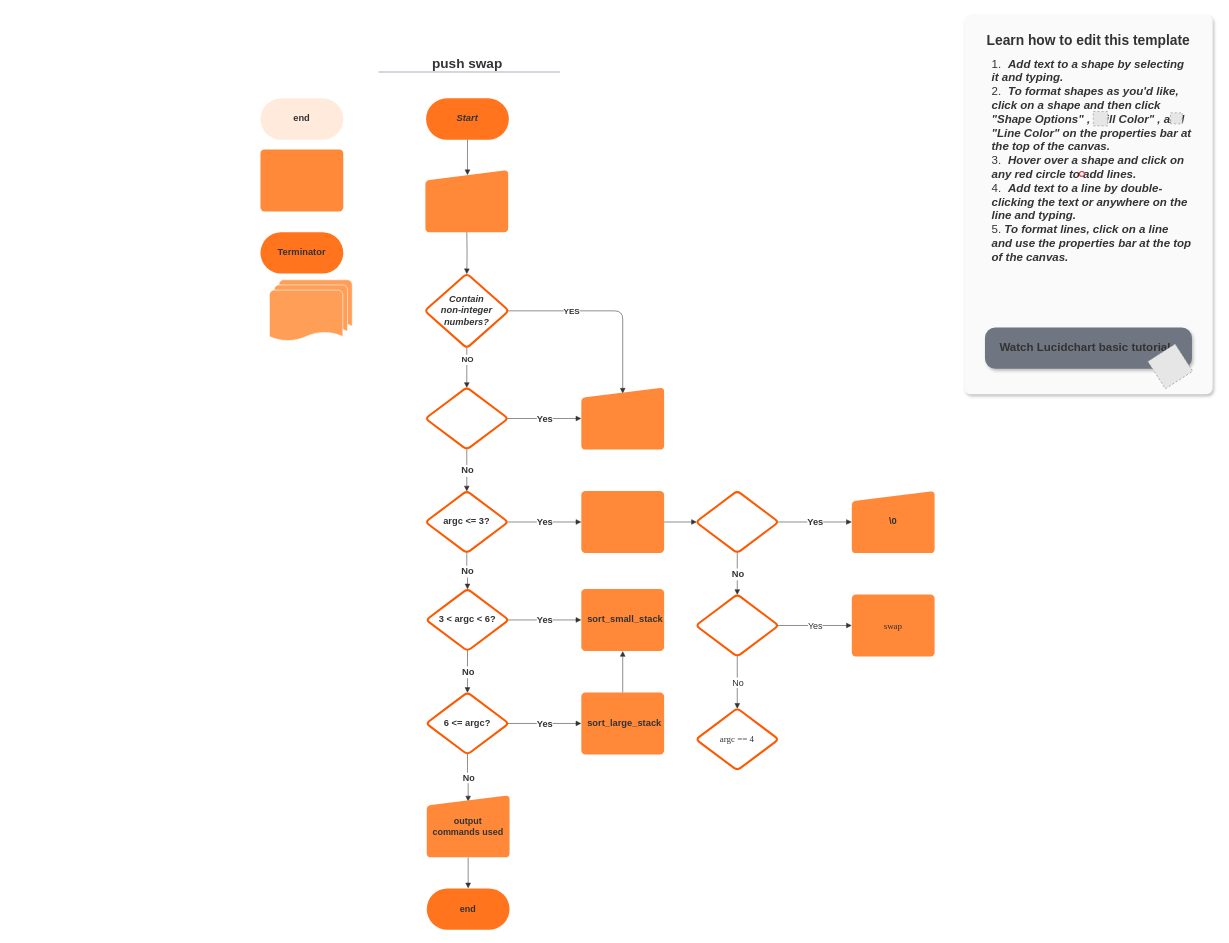
This 1229x943 diagram has some shape labels left out. Grey dashed boxes stand in for pictures. The shapes that lost their labels are listed below. From the top down, each one's centre as x and y in pixels, then its label:
(x=467, y=77): %creatorName% | %date{mmmm d, yyyy}%
(x=301, y=180): Contain non-integer numbers
(x=466, y=200): input numbers
(x=1088, y=305): Tutorials (Hold Shift + ⌘ or Ctrl, then click)
(x=466, y=418): Contain same numbers?
(x=622, y=418): Error\n
(x=622, y=521): sort_3_stack
(x=736, y=522): argc <= 2?
(x=736, y=625): argc == 3
